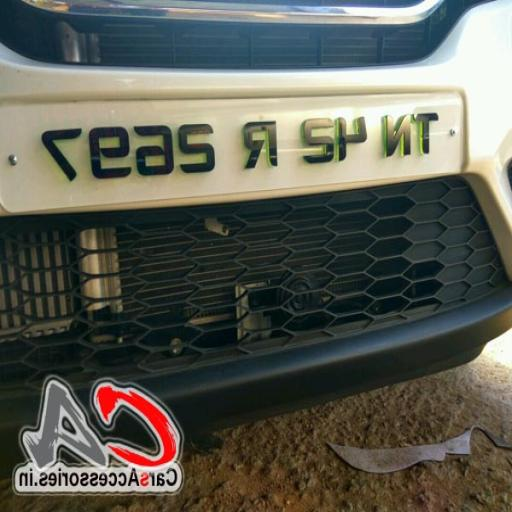License: (40, 86, 446, 196)
